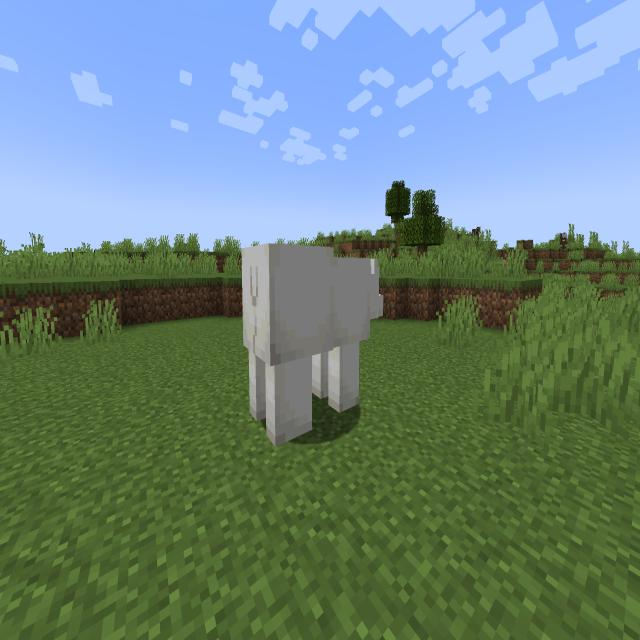Polar Bear: (236, 234, 390, 466)
